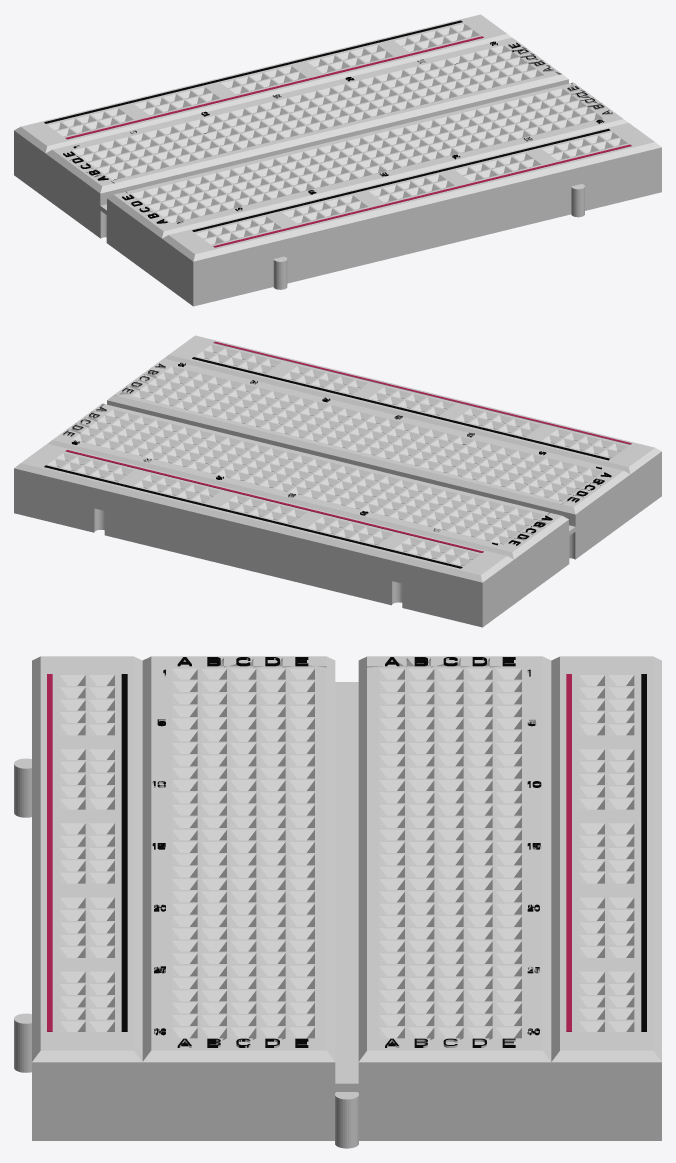
3 renders of one model, top to bottom at view 1: azimuth 30°, elevation 25°; view 2: azimuth 150°, elevation 25°; view 3: azimuth 270°, elevation 25°, orthographic. The views are drawn at different scales.
Visible parts, largest first — view 1: _2002; view 2: _2002; view 3: _2002.
Part boxes in pixels (box(x1,y1,x2,y2)): _2002: box(14, 14, 661, 306); _2002: box(14, 335, 661, 627); _2002: box(14, 656, 661, 1148).
Bounding box in the file's own units: 84.06 × 56.26 × 8.5.
